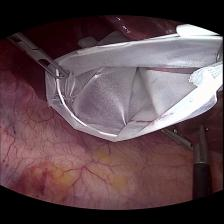Grasper: (8, 34, 70, 77), (162, 124, 216, 162)
Specimen Bag: (52, 30, 224, 137)
